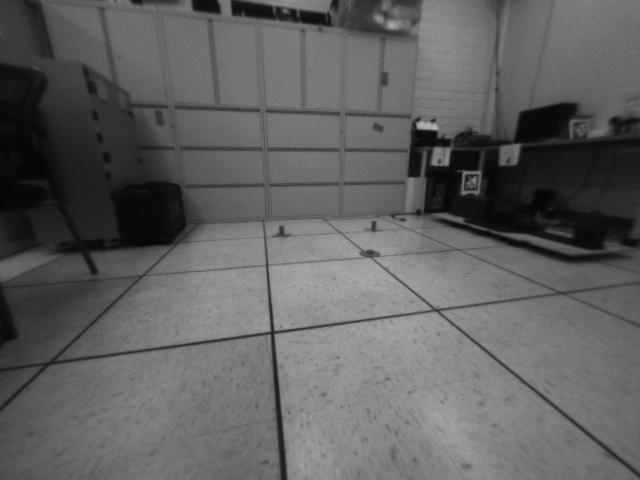X: (271, 224, 293, 238), (365, 219, 382, 232)
